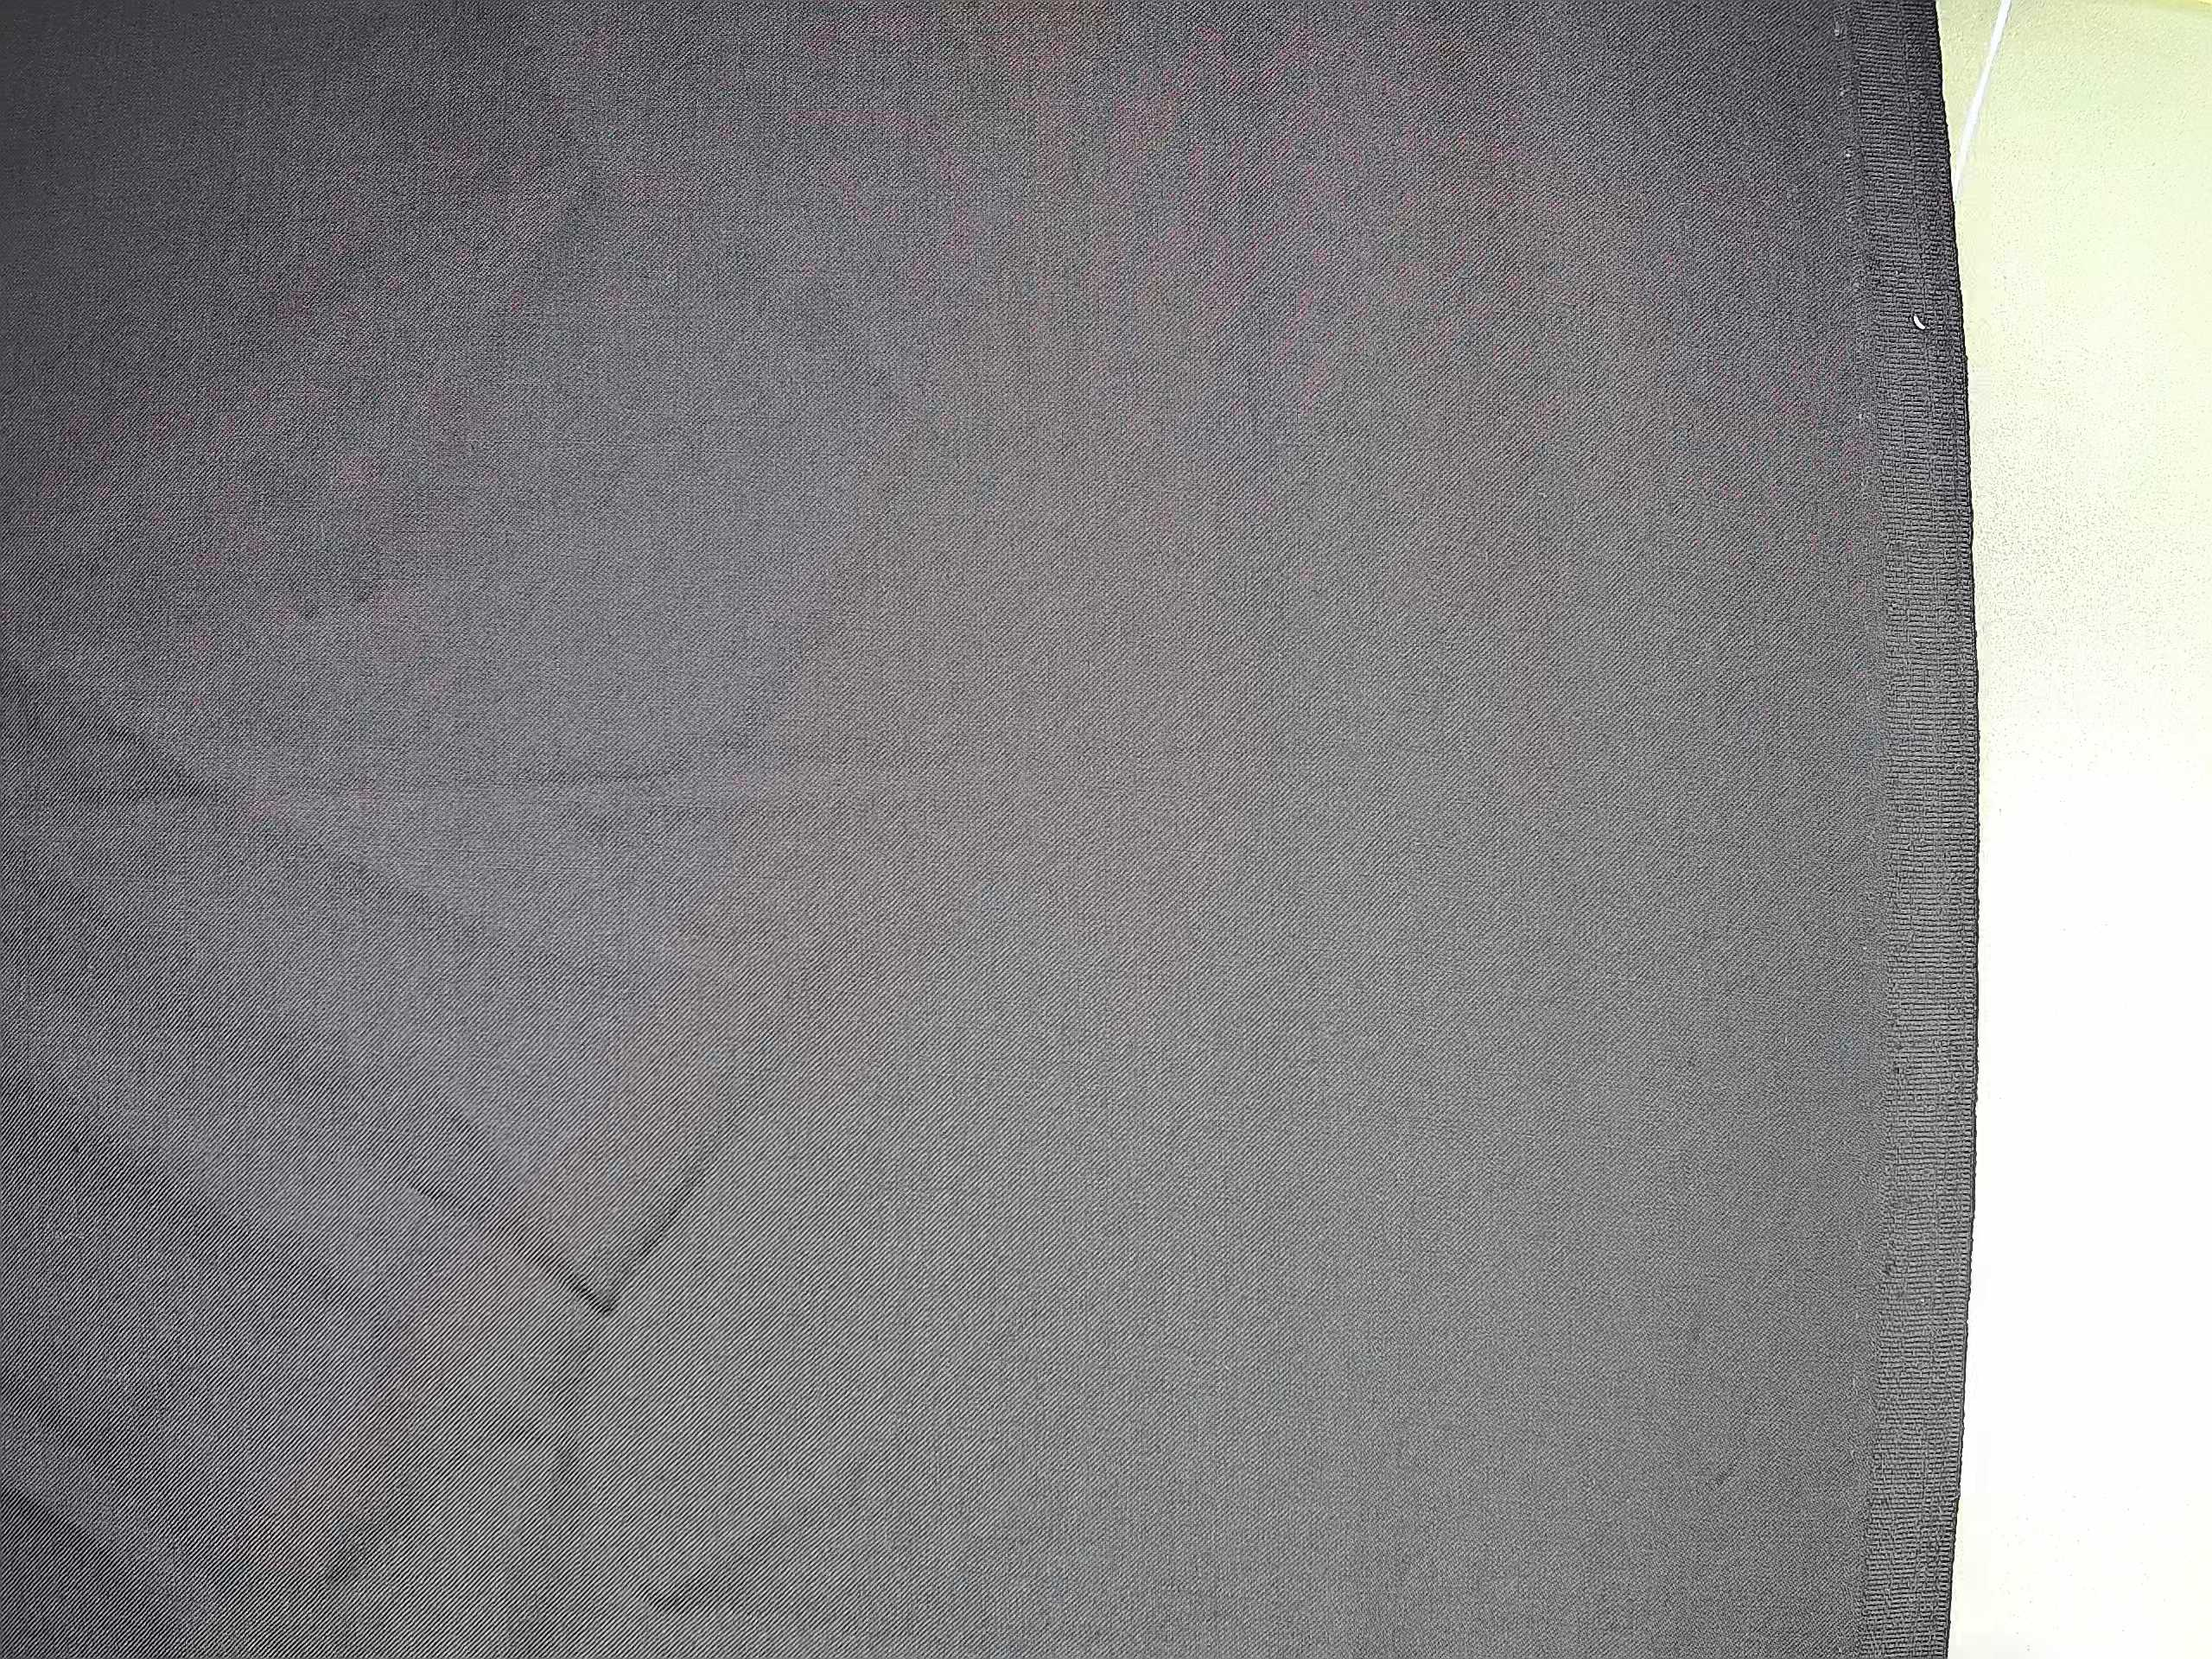puncture-hole: (1829, 14, 1879, 505)
